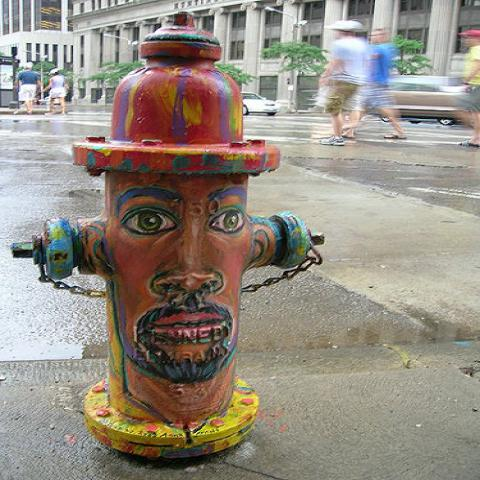car: (389, 78, 468, 118), (240, 92, 282, 115)
